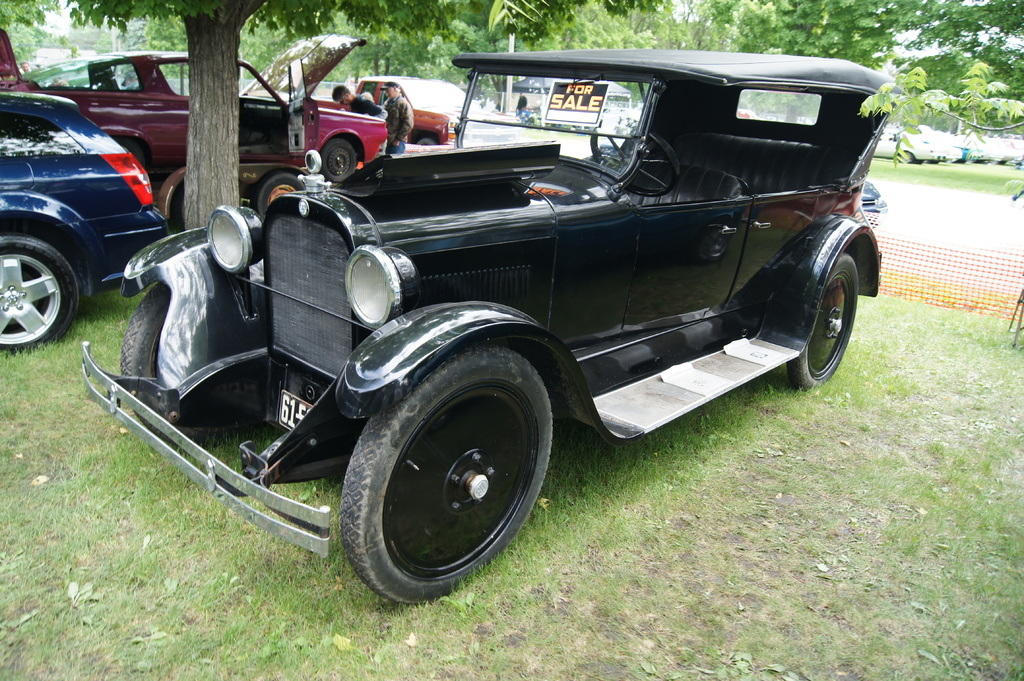mobil: (119, 24, 911, 588)
